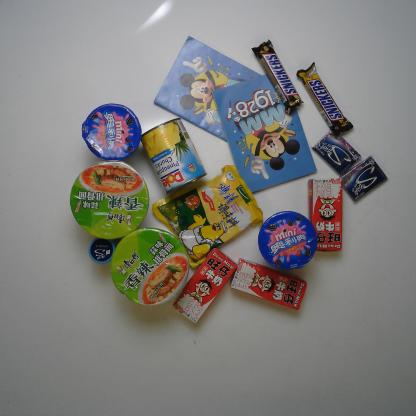Canned Food: (134, 115, 209, 194)
Chocolate: (294, 59, 355, 139), (251, 33, 303, 117)
Dessert: (254, 204, 320, 271), (78, 100, 144, 166)
Gum: (337, 151, 391, 203), (310, 128, 362, 178), (85, 232, 117, 266)
Instant Noodles: (67, 154, 150, 242), (107, 225, 191, 310)
Milk: (174, 240, 240, 327), (227, 250, 309, 312), (306, 172, 349, 256)
Seasoner: (149, 162, 264, 272)
Stationery: (153, 33, 285, 147), (211, 70, 318, 198)
